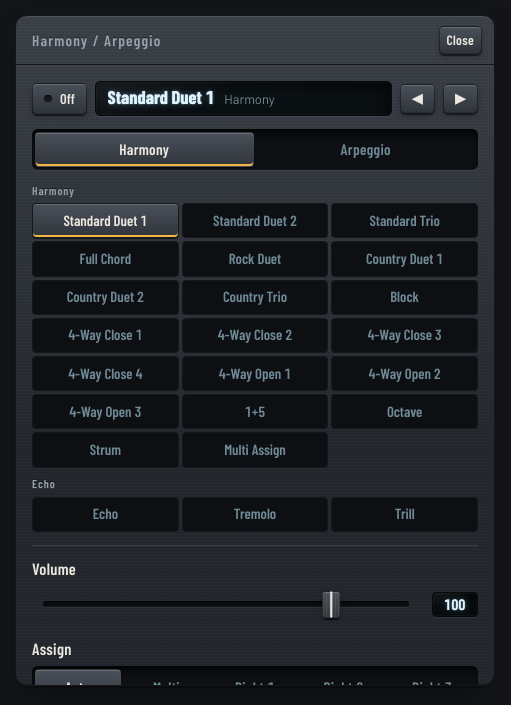
it: Harmony/Arpeggio drawer › lists the 23 Harmony types, the selected one marked, and switches the effect on
Click the switch labelled "Off" at (60, 98), box [32,83,87,114]
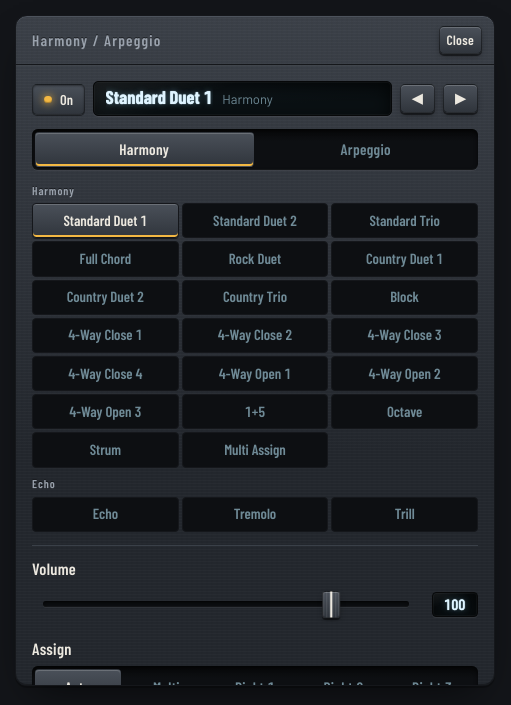
Click the option "Block" at (405, 297), box [331,280,478,315]
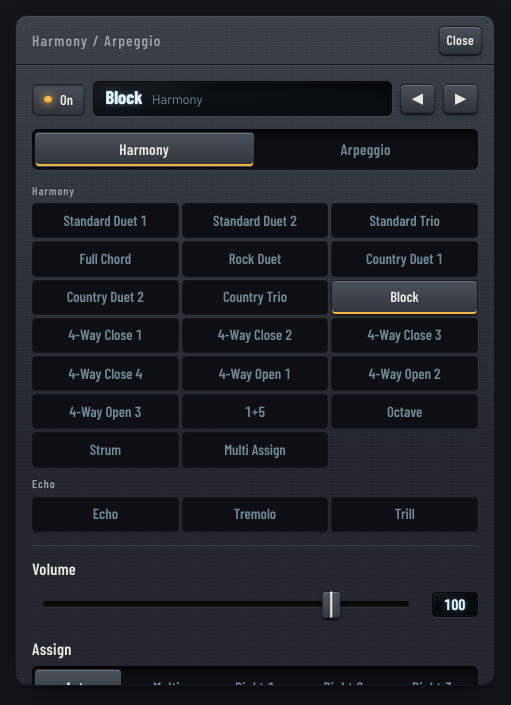
expect the text "Block" is shown: met, box [106,85,142,110]
expect the element with class "now" shows "Block": met, box [106,86,142,108]
